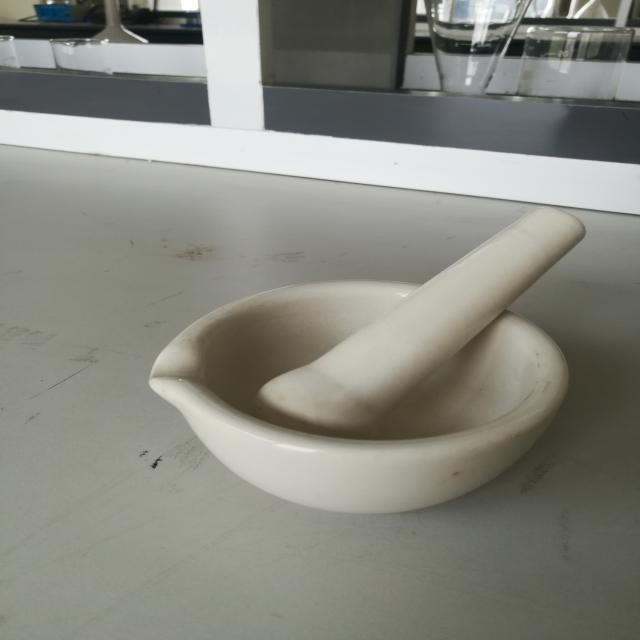Porcelain_Mortar Pestle: (125, 179, 638, 542)
